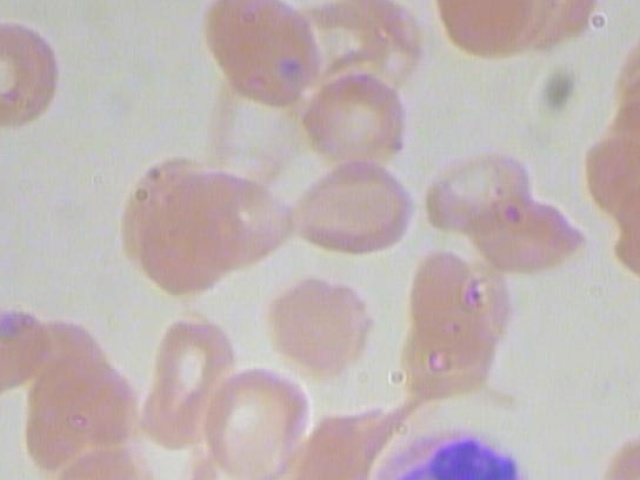RBC: (121, 171, 252, 300), (130, 305, 242, 452), (283, 151, 417, 262), (191, 364, 319, 480), (194, 0, 328, 107), (288, 64, 418, 172), (256, 269, 378, 379), (456, 188, 591, 275), (417, 147, 544, 235), (0, 16, 62, 129), (0, 290, 57, 397)
WBC: (366, 425, 541, 480)
